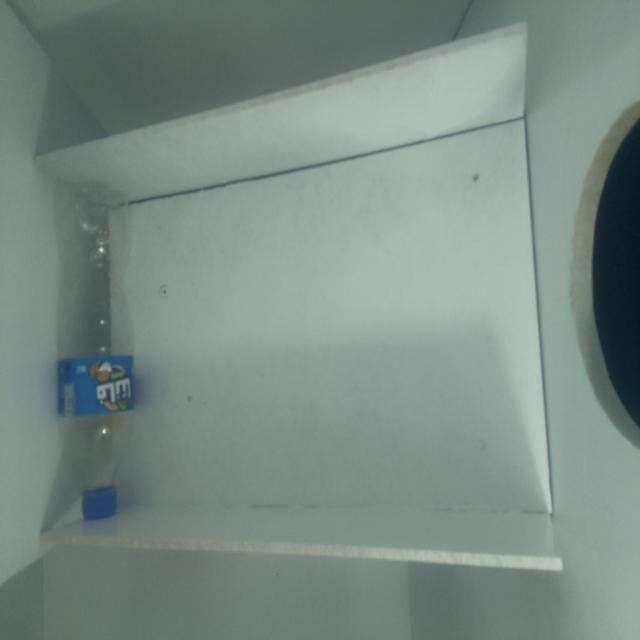Anorganik: (55, 174, 139, 521)
